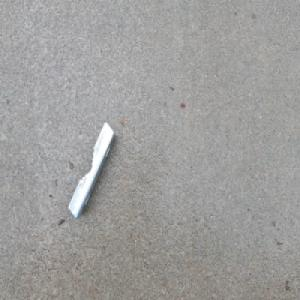ClampPart: (67, 119, 116, 220)
